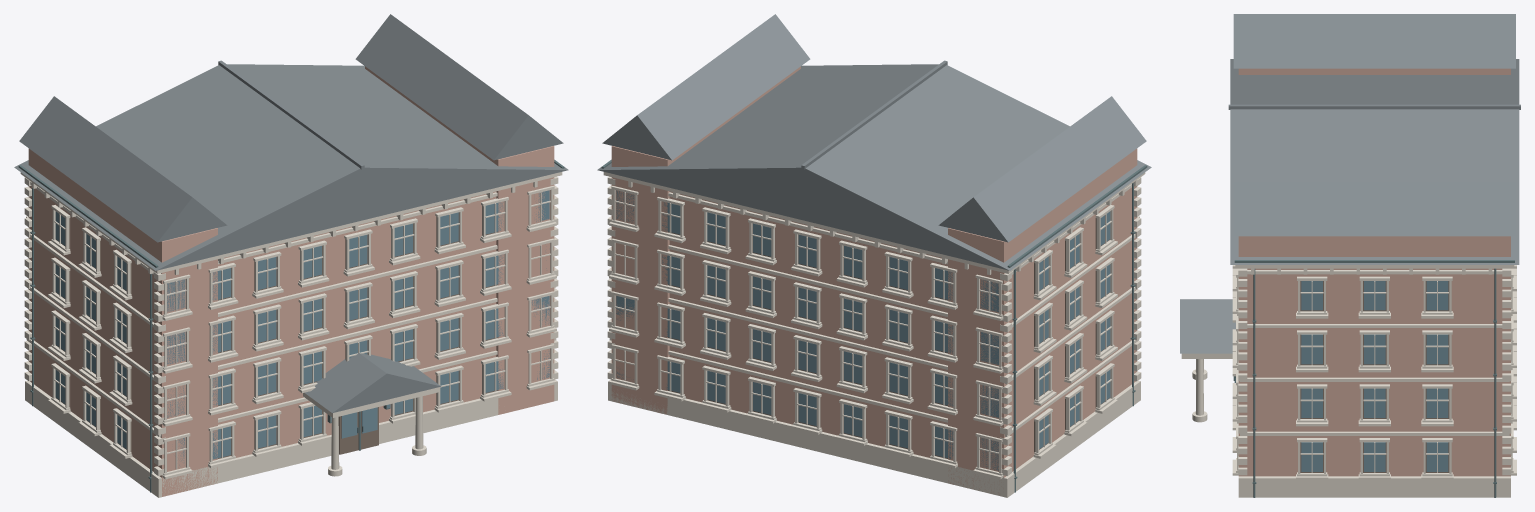
The model's file is informatics.glb.
3 views of the same model, side by side, from view 1: azimuth 30°, elevation 25°; view 2: azimuth 150°, elevation 25°; view 3: azimuth 270°, elevation 25° (orthographic).
Parts seen in each view (by area): view 1: informatics-roof, informatics-brick, informatics-stone, informatics-glass, informatics-wood, informatics-metal; view 2: informatics-roof, informatics-brick, informatics-stone, informatics-glass, informatics-wood, informatics-metal; view 3: informatics-roof, informatics-brick, informatics-stone, informatics-glass, informatics-metal, informatics-wood.
Part boxes in pixels (bbox=[...]): informatics-roof: bbox=[14, 14, 568, 412]; informatics-brick: bbox=[28, 66, 554, 496]; informatics-stone: bbox=[20, 172, 562, 497]; informatics-glass: bbox=[55, 190, 549, 465]; informatics-wood: bbox=[56, 206, 497, 458]; informatics-metal: bbox=[18, 160, 564, 492]; informatics-roof: bbox=[597, 14, 1151, 270]; informatics-brick: bbox=[611, 66, 1137, 495]; informatics-stone: bbox=[603, 172, 1145, 497]; informatics-glass: bbox=[616, 190, 1110, 470]; informatics-wood: bbox=[668, 206, 1109, 458]; informatics-metal: bbox=[601, 160, 1147, 492]; informatics-roof: bbox=[1180, 14, 1520, 353]; informatics-brick: bbox=[1238, 68, 1510, 476]; informatics-stone: bbox=[1181, 265, 1516, 497]; informatics-glass: bbox=[1235, 281, 1448, 471]; informatics-metal: bbox=[1233, 260, 1514, 497]; informatics-wood: bbox=[1300, 281, 1449, 472].
Bounding box in the file's own units: 29.5 × 20.1 × 20.65.
